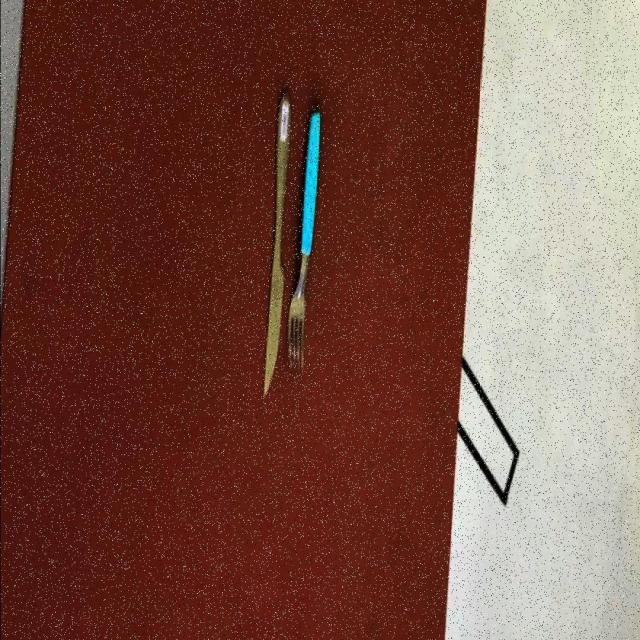Fork: (287, 108, 322, 372)
Knife: (262, 91, 292, 398)
